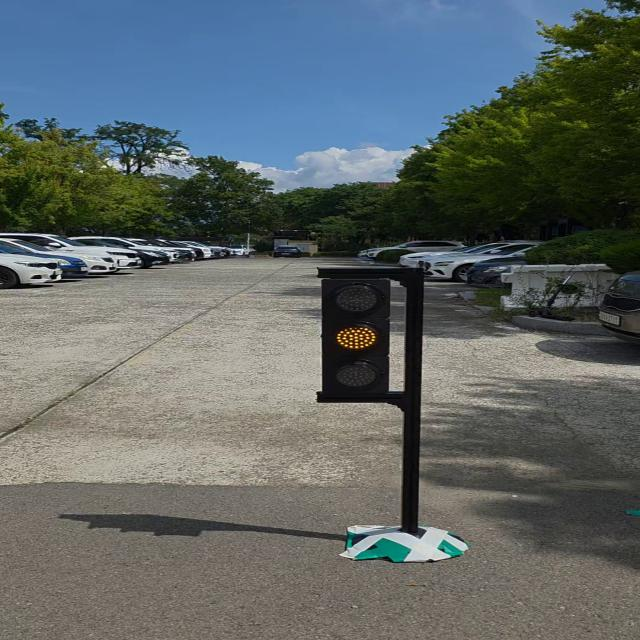yellow: (324, 275, 391, 395)
